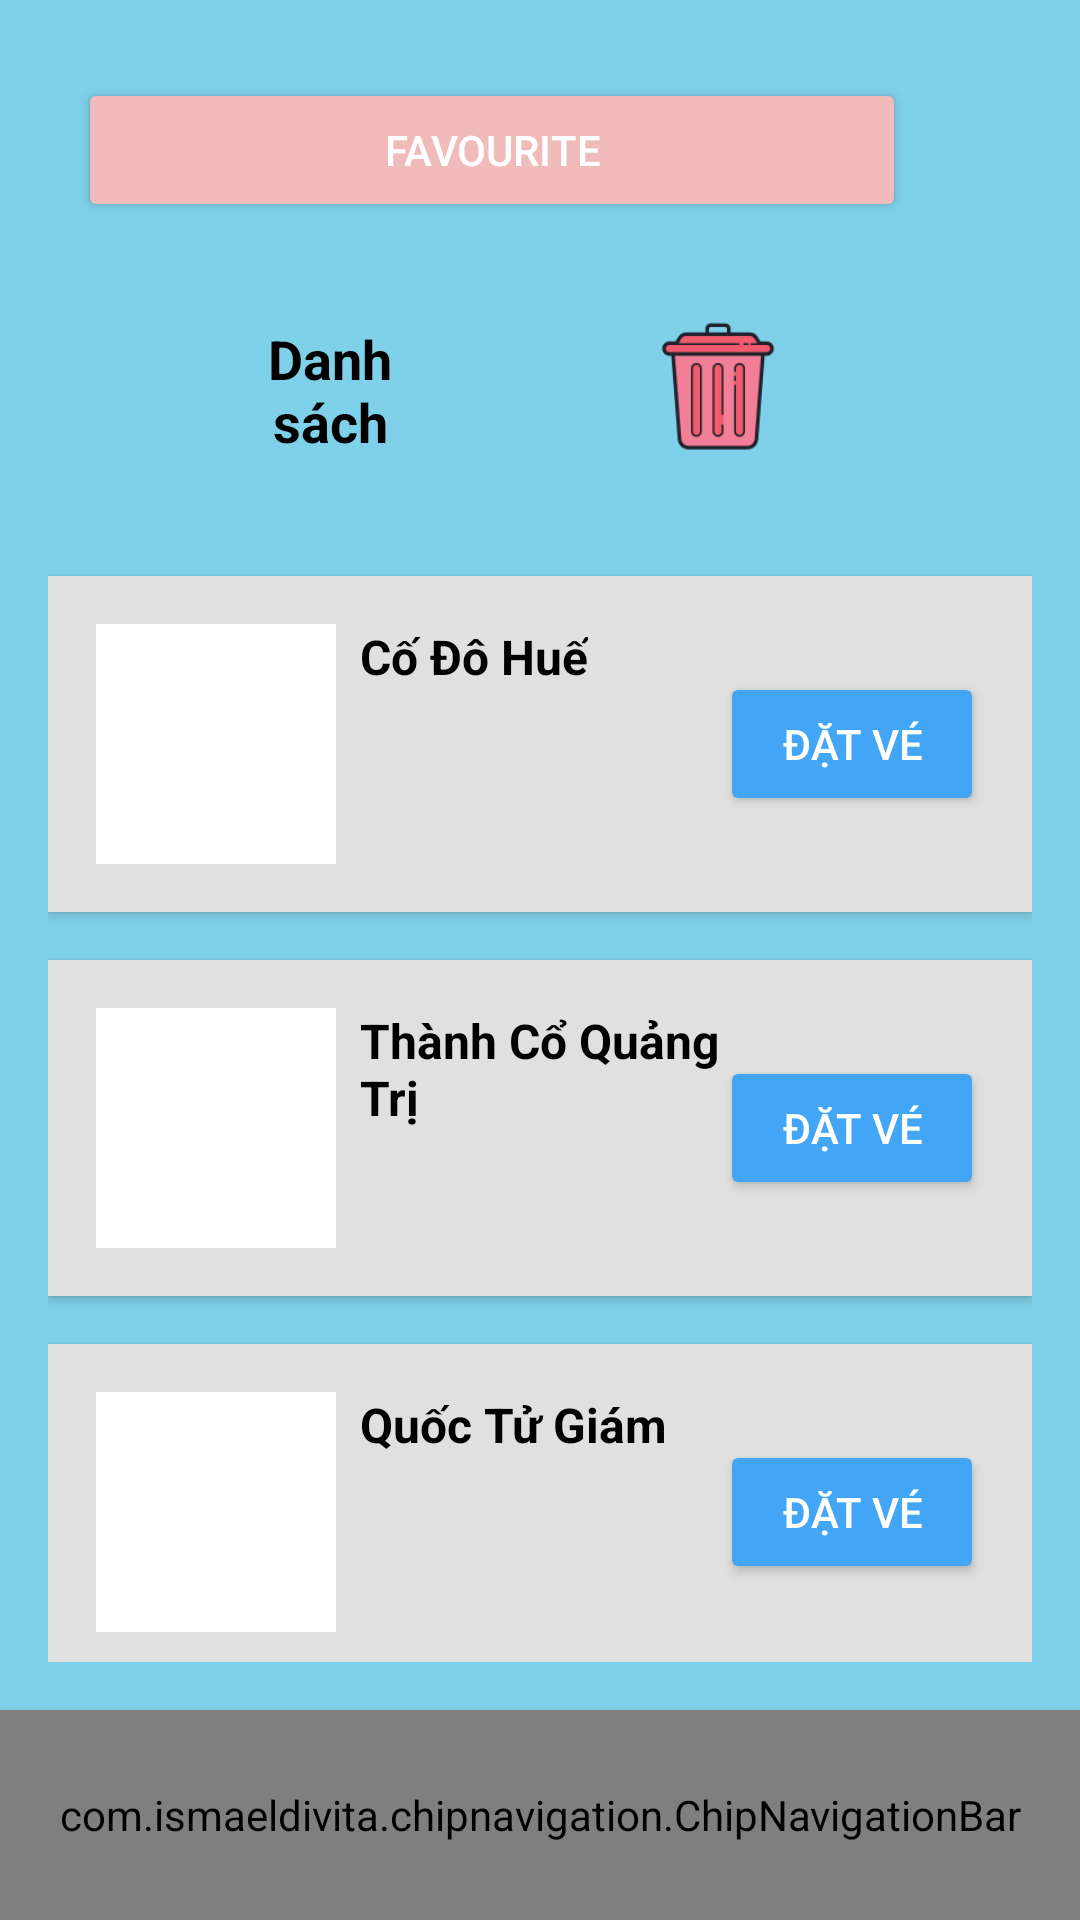

Icons on this 1080x1920 Android screen, each with its box as rect(x1, y1, x2, y2):
Delete icon: rect(661, 323, 775, 450)
